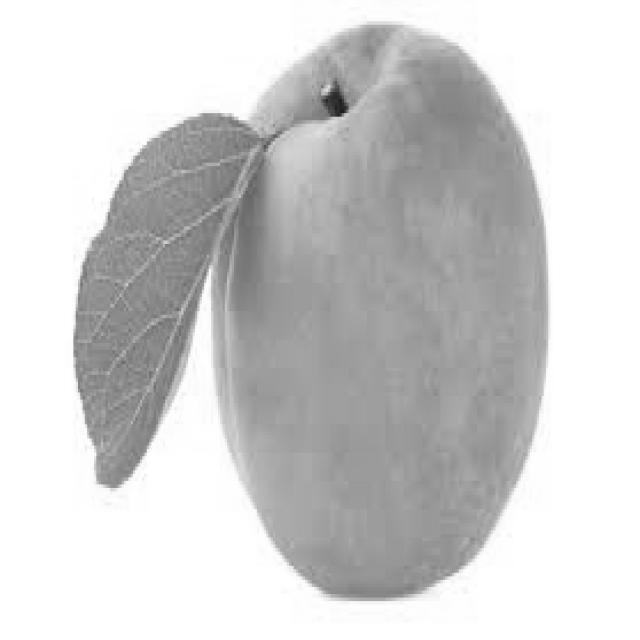Kayisi: (213, 23, 546, 601)
Kayisi Yapragi: (77, 111, 258, 483)
